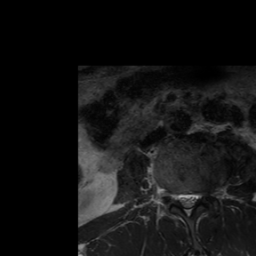CCS_normal: (183, 184, 190, 222)
LFS_stenosis: (199, 183, 209, 207)
LLS_stenosis: (190, 184, 199, 210)
RFS_normal: (168, 183, 176, 207)
RLS_normal: (175, 184, 183, 211)
